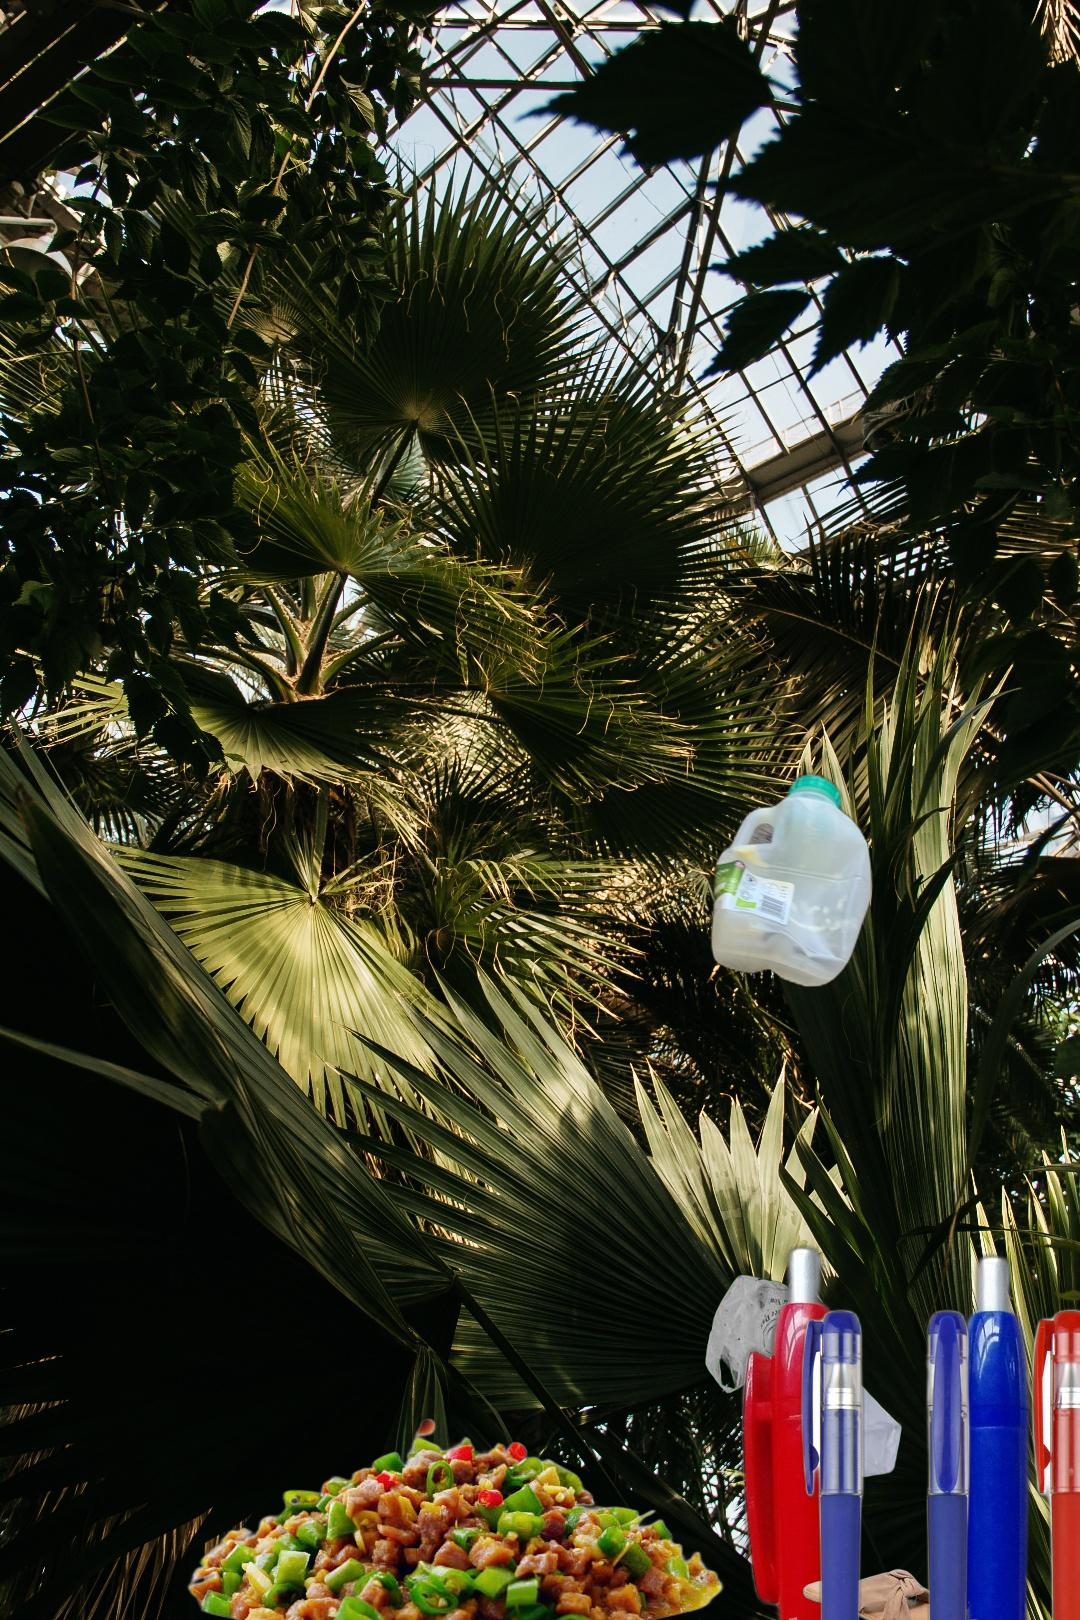biological: (181, 1415, 730, 1620)
penholder: (732, 1238, 1080, 1620), (793, 1303, 1080, 1620)
plastic-bag: (702, 1272, 904, 1481)
plastic-bottles: (706, 769, 876, 993), (127, 1563, 504, 1620)
shoes: (800, 1566, 961, 1620)
